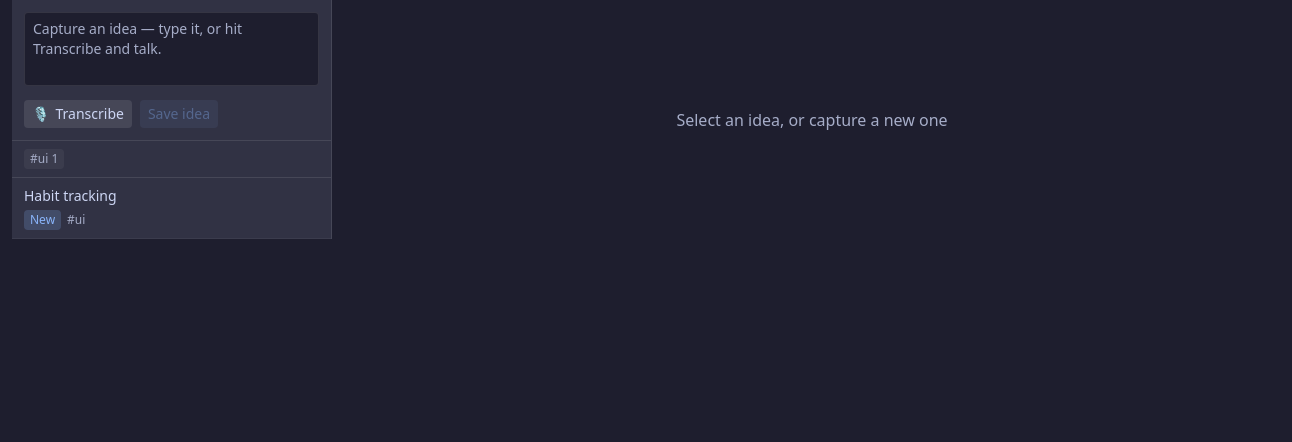
it: Ideas › opens the detail pane when an idea is selected
Click the text "Habit tracking" at coordinates (70, 196), box x1=24 y1=186 x2=117 y2=205
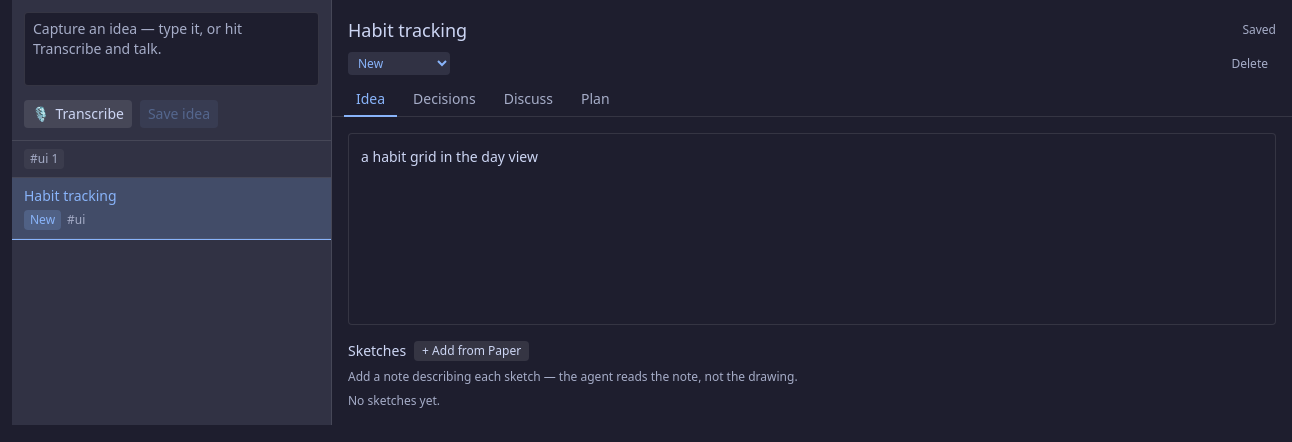
Expected: the text box showing "a habit grid in the day view" is shown, x1=348 y1=133 x2=1276 y2=325
